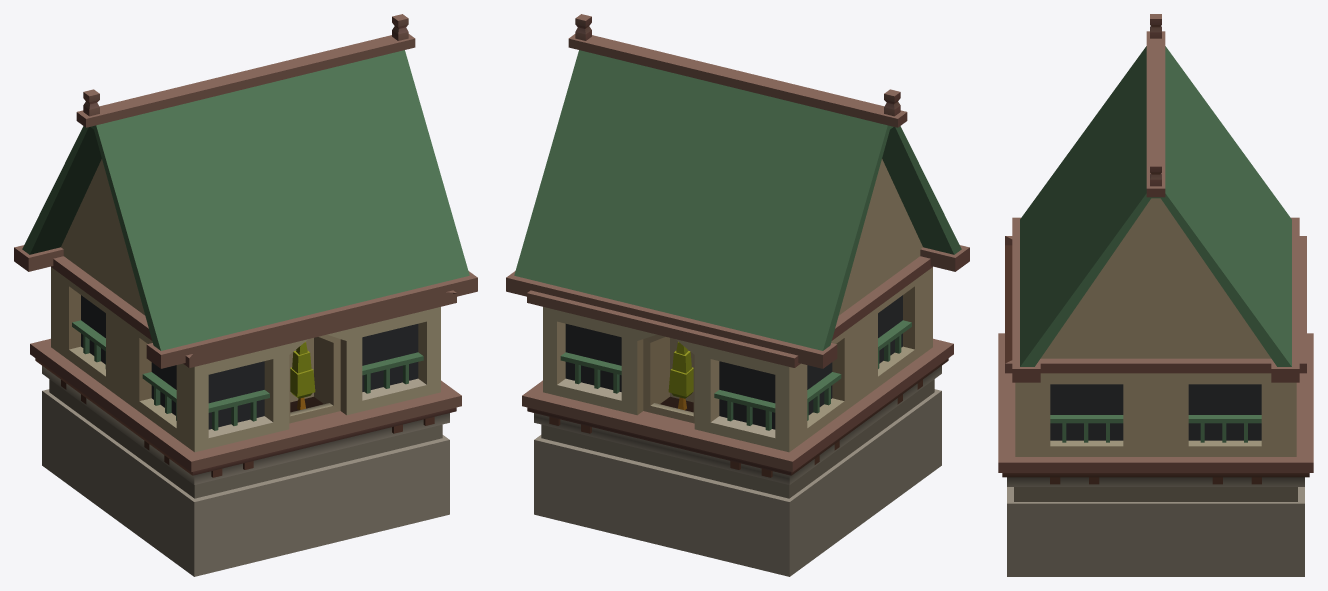
File: SF_Bld_Elven_House_01.fbx
3 views of the same model, side by side, from view 1: azimuth 30°, elevation 25°; view 2: azimuth 150°, elevation 25°; view 3: azimuth 270°, elevation 25° (orthographic). The views are drawn at different scales.
Parts seen in each view (by area): view 1: SF_Bld_Elven_House_01; view 2: SF_Bld_Elven_House_01; view 3: SF_Bld_Elven_House_01.
Part boxes in pixels (<box>): SF_Bld_Elven_House_01: <box>14,14,477,576</box>; SF_Bld_Elven_House_01: <box>506,14,969,576</box>; SF_Bld_Elven_House_01: <box>998,14,1313,576</box>.
Bounding box in the file's own units: 17.97 × 22.68 × 15.23.
